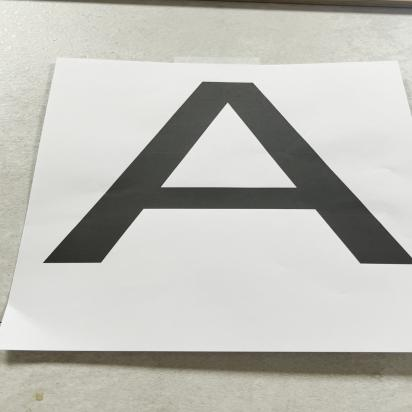seat: (37, 75, 412, 316)
